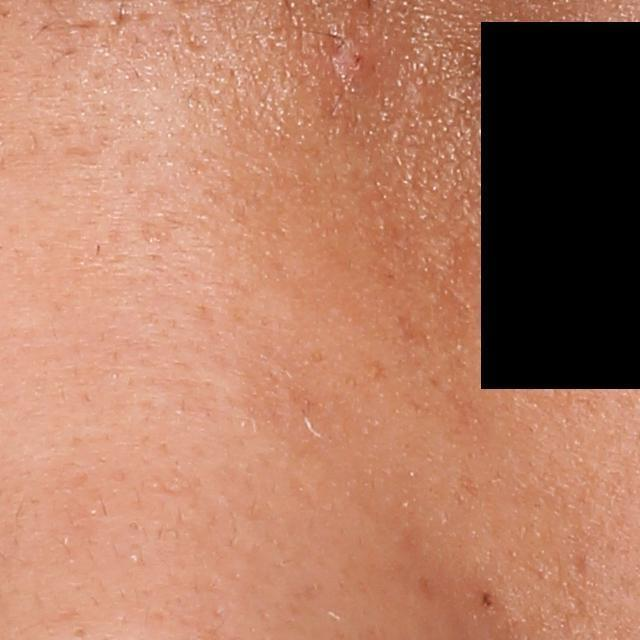nevus: (475, 590, 495, 611)
